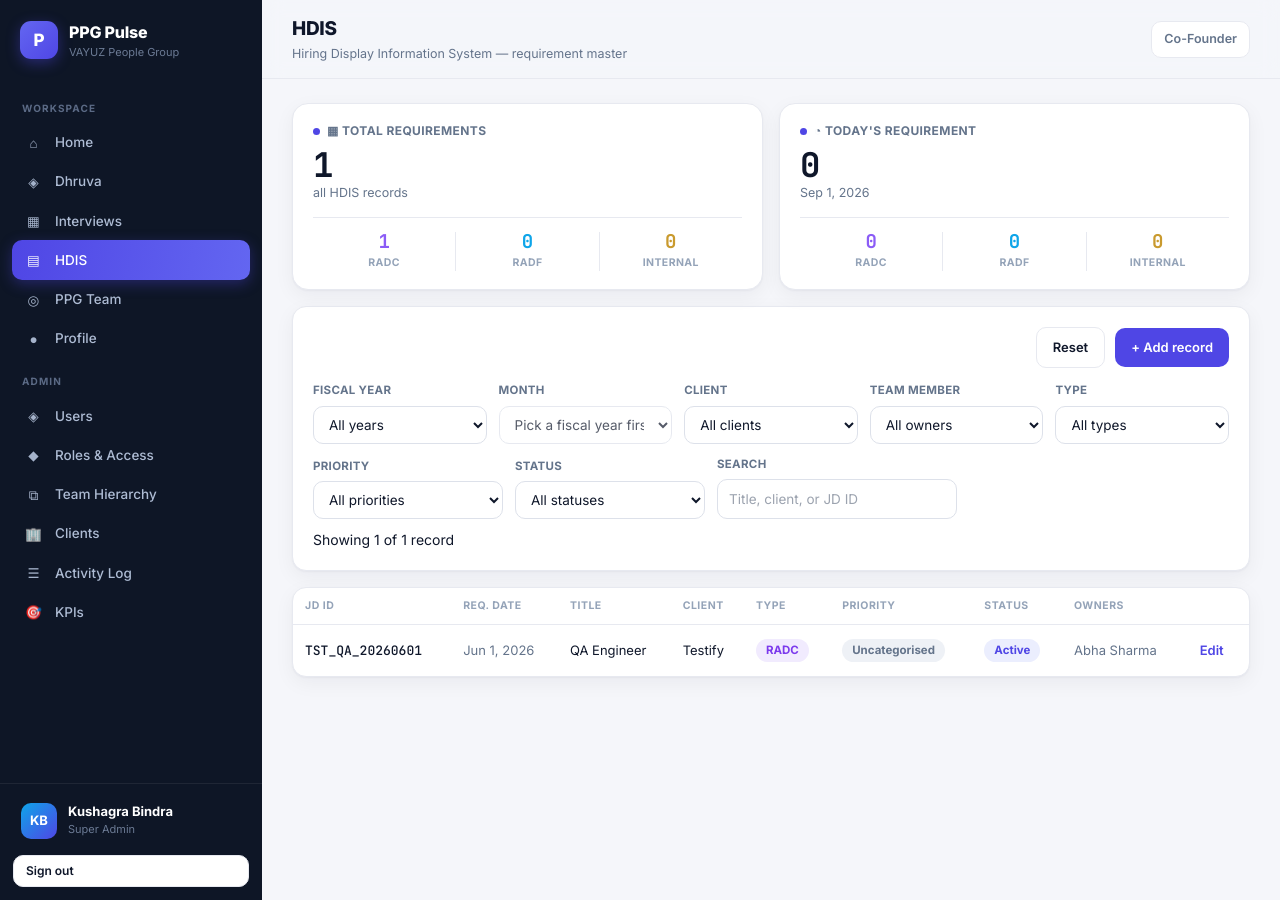
HDIS status reason + remarks › shows a status-reason select only for On Hold / Closed, with the right options
This screenshot has width=1280, height=900.
Expected: the text "QA Engineer" is shown, [558,624,671,676]
Step 1. Click the button "Edit" → (1212, 651), box [1194,637,1230,664]
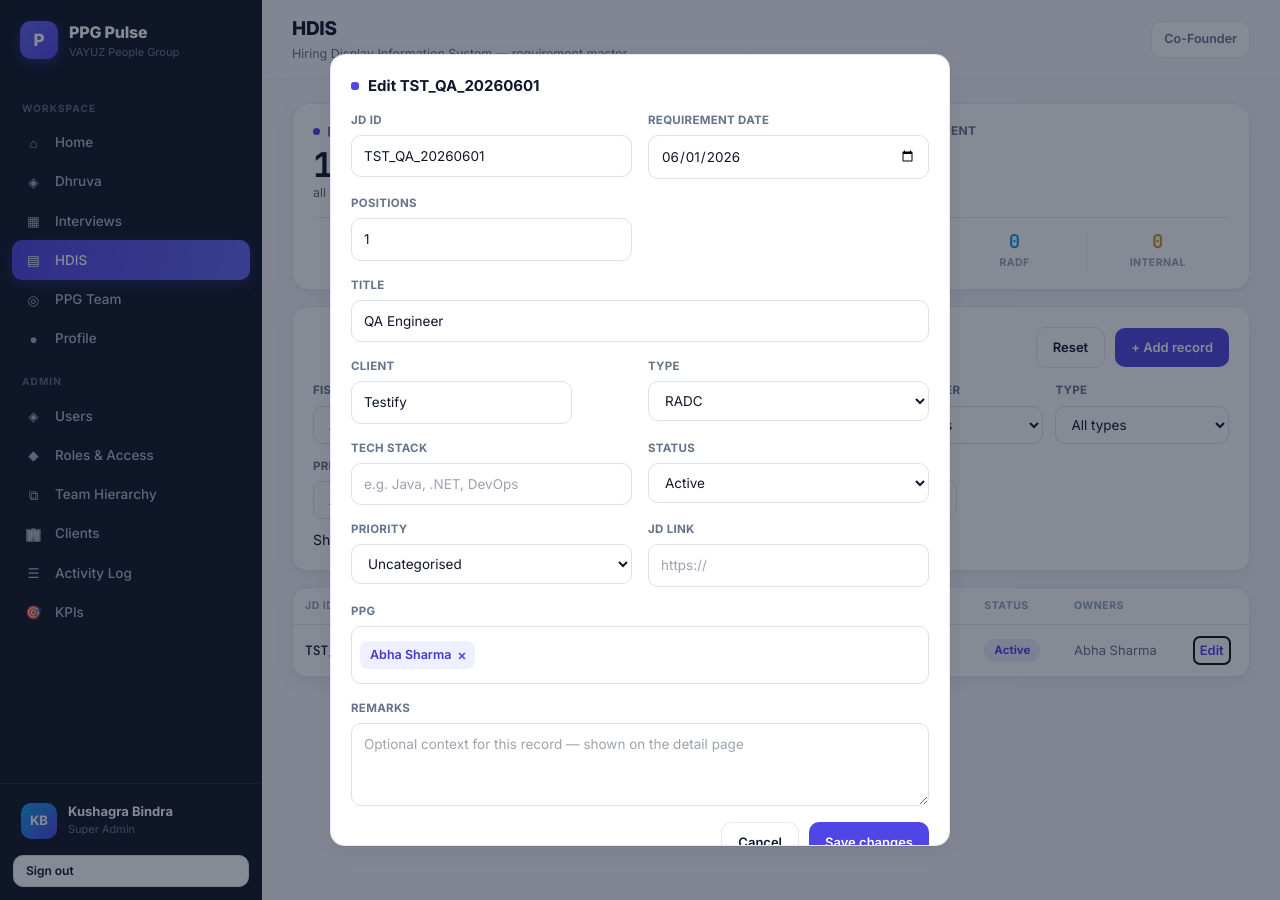
Expected: the text "Status reason" is not shown
Step 2. Select "On Hold" in the dropdown labelled "Status" → (788, 483), box [648,463,929,503]
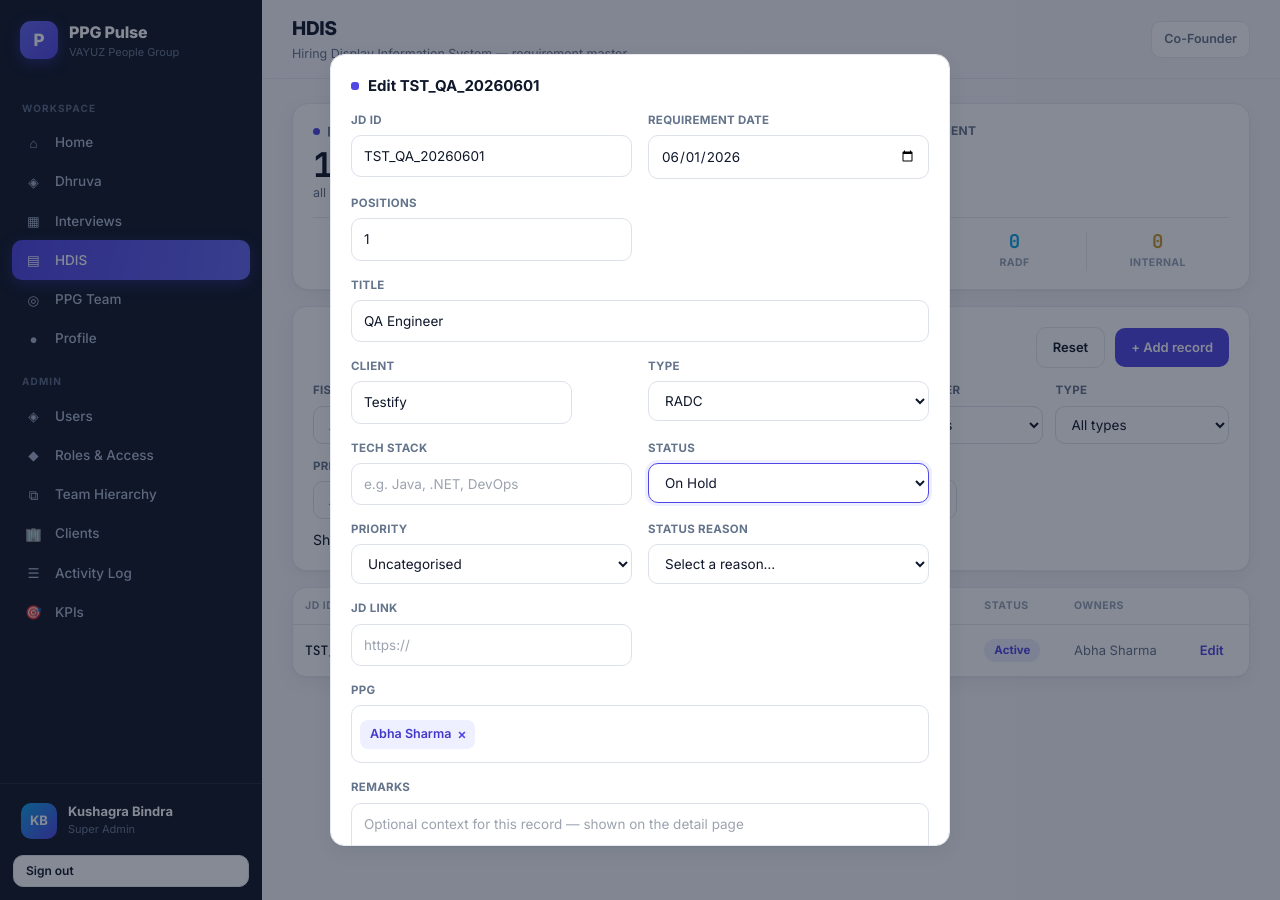
Result: the text "Status reason" is shown at [648,522,748,536]
Step 3. Select "Closed" in the dropdown labelled "Status" → (788, 483), box [648,463,929,503]
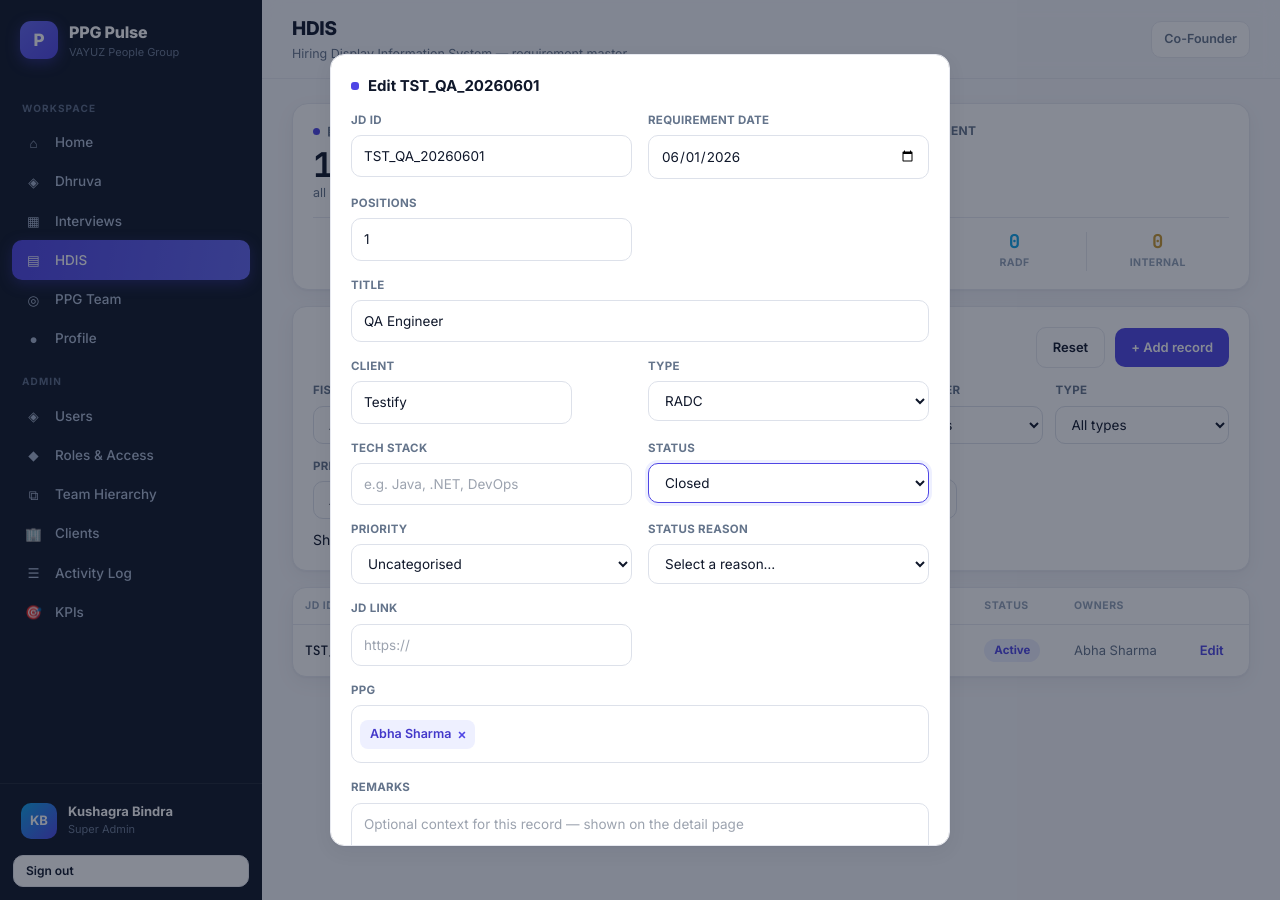
Step 4. Select "Active" in the dropdown labelled "Status" → (788, 483), box [648,463,929,503]
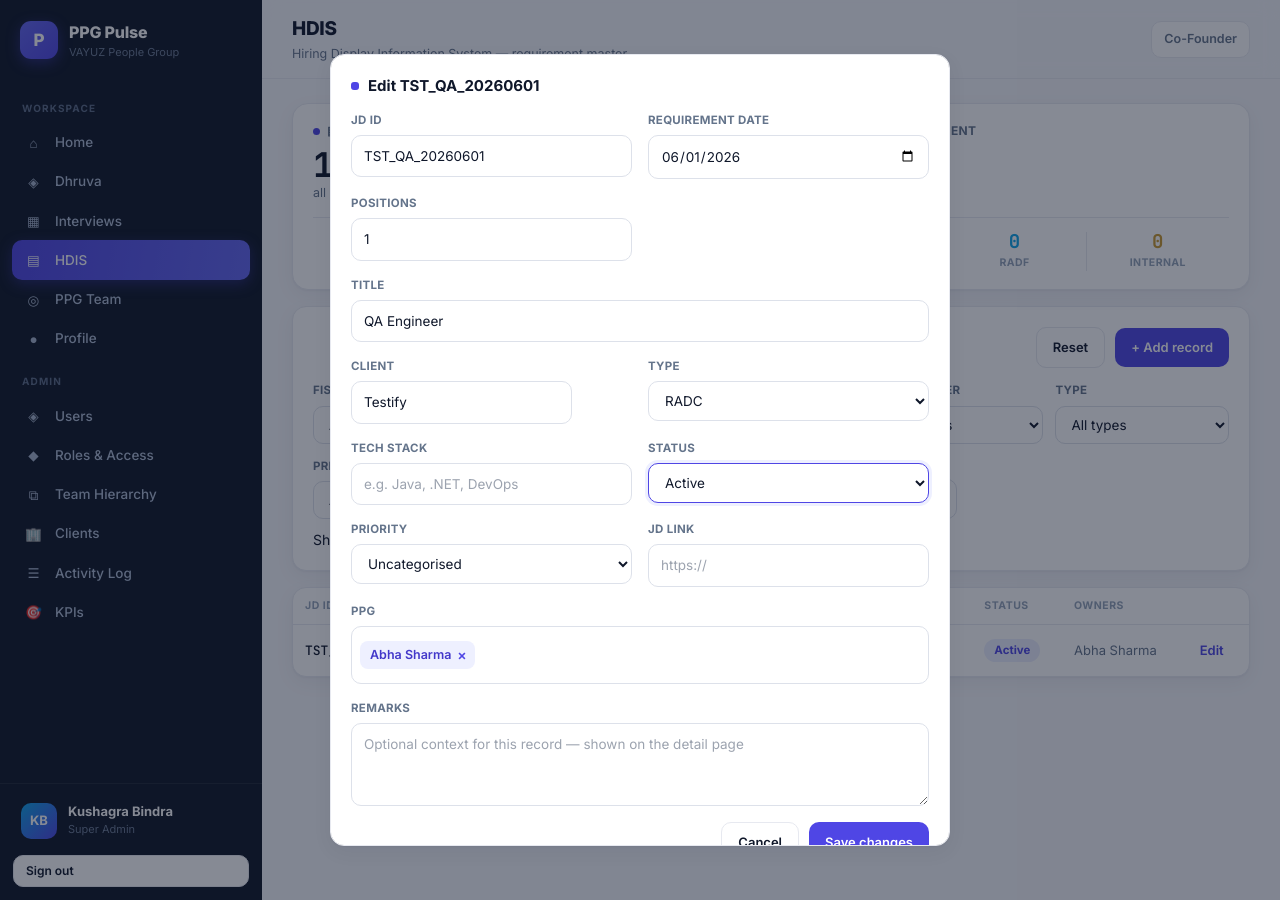
Result: the text "Status reason" is gone
